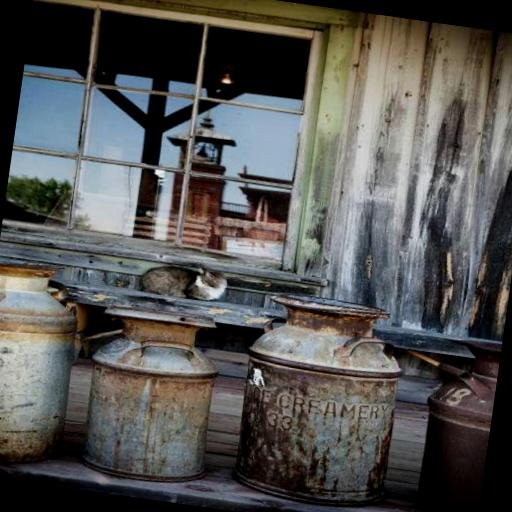corrosion: (231, 347, 400, 510), (80, 364, 213, 486), (412, 336, 501, 512)
